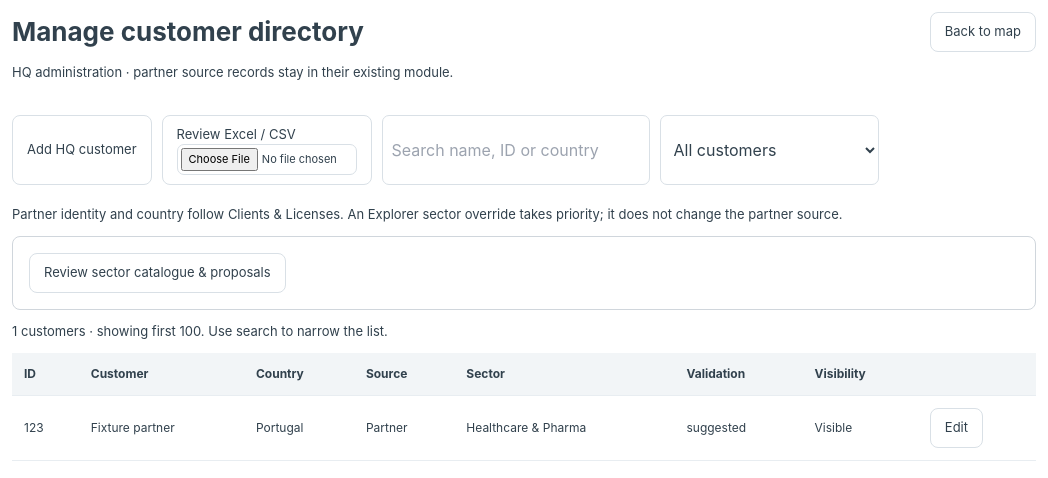
HQ sector source review › filters source changes separately from other unvalidated sectors
Select "Source sector changed" in the dropdown named "Review filter" at (769, 150), box top-left (660, 114), bottom-right (879, 184)
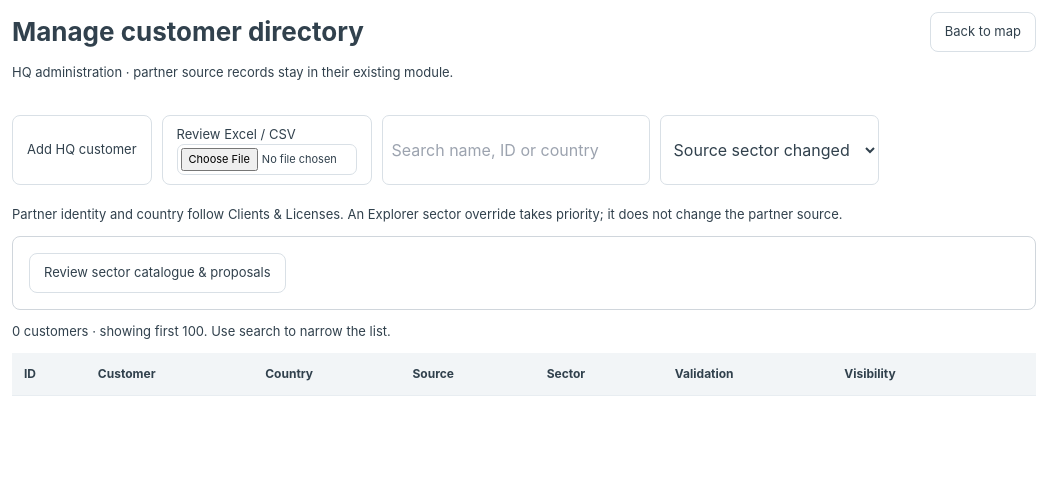
Expected: the cell "Fixture partner" is gone
